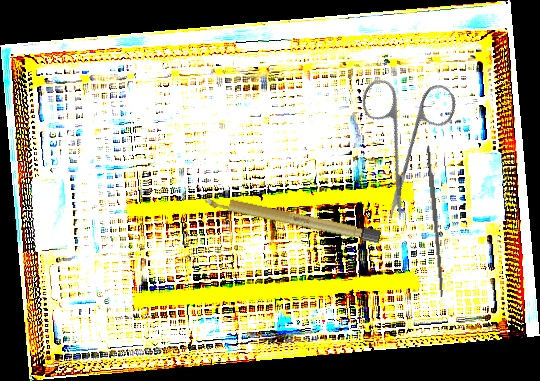Iris Scissors: (317, 47, 494, 224)
Scalpel Handle: (201, 192, 383, 244), (425, 144, 446, 298)
